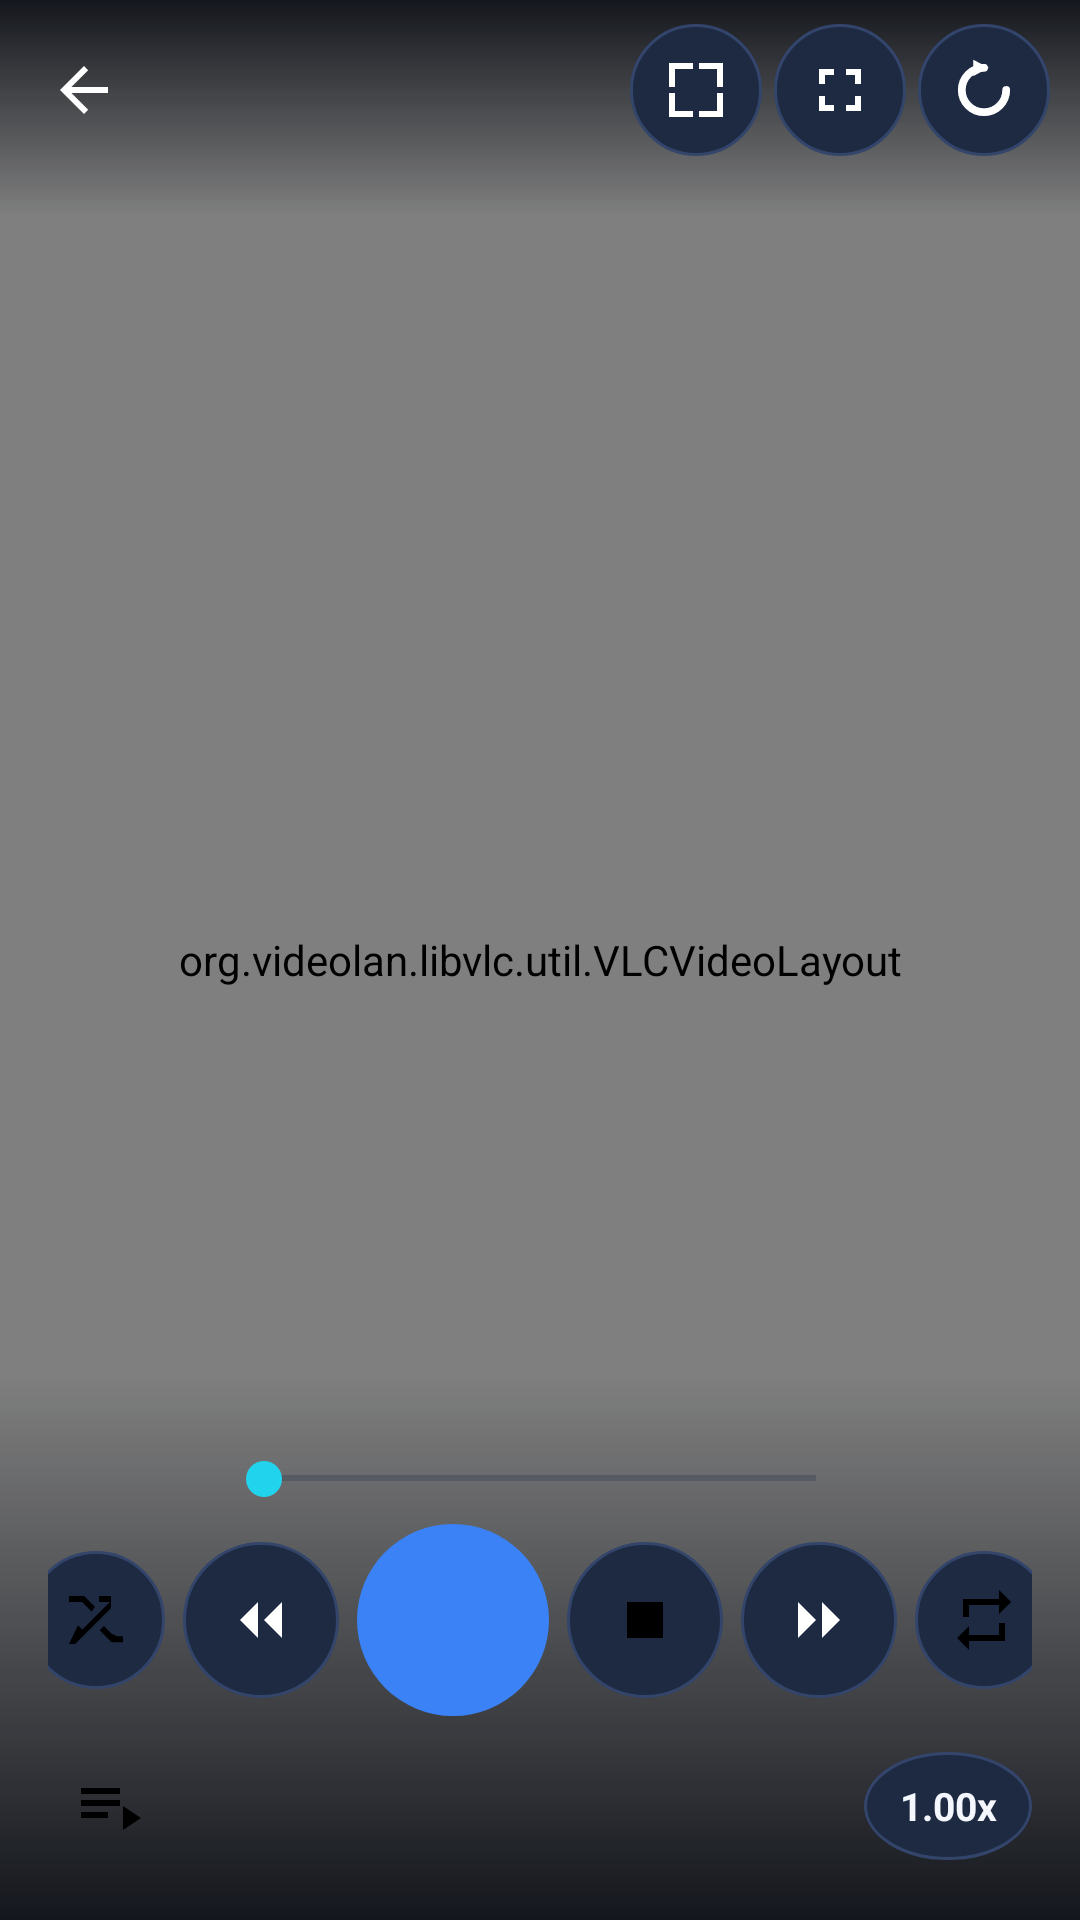

Named icons in this screenshot (1080*1920) and their centers, (x=x, y=y):
Durdur: (x=645, y=1620)
Ekran modu: (x=696, y=90)
Ekranı döndür: (x=984, y=90)
Sonraki radyo: (x=819, y=1620)
Tam ekran: (x=840, y=90)
Önceki radyo: (x=261, y=1620)
